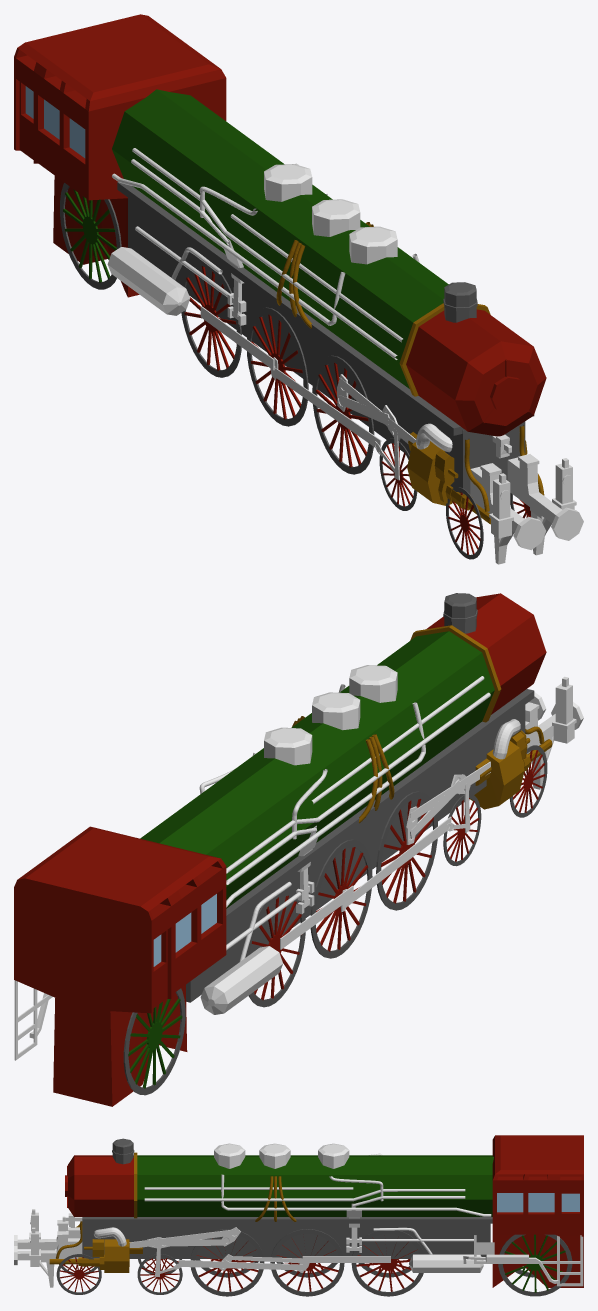
File: Train.glb
The picture shows the model from 3 angles, top to bottom: view 1: azimuth 30°, elevation 25°; view 2: azimuth 150°, elevation 25°; view 3: azimuth 270°, elevation 25°; orthographic projection. The views are drawn at different scales.
Visible parts, largest first — view 1: Cube.085, Cube.084, Cube.083, Cube.063, Cube.068, Cube.067, BezierCurve.041, BezierCurve.035, BezierCurve.037, BezierCurve.039, BezierCurve.042, BezierCurve.053 (+11 smaller); view 2: Cube.084, Cube.085, Cube.083, Cube.063, BezierCurve.041, BezierCurve.035, BezierCurve.037, BezierCurve.042, Cube.067, BezierCurve.053, BezierCurve.039, BezierCurve.057 (+12 smaller); view 3: Cube.085, Cube.084, Cube.083, Cube.063, BezierCurve.041, BezierCurve.039, BezierCurve.035, BezierCurve.042, Cube.068, BezierCurve.018, BezierCurve.002, BezierCurve.022 (+23 smaller).
Part boxes in pixels (x1,y1,x2,y2): Cube.085: (112,89,546,436); Cube.084: (14,14,226,297); Cube.083: (128,198,525,494); Cube.063: (117,182,534,435); Cube.068: (507,454,583,555); Cube.067: (470,463,545,564); BezierCurve.041: (247,307,308,426); BezierCurve.035: (60,183,121,289); BezierCurve.037: (107,247,190,315); BezierCurve.039: (181,259,241,377); BezierCurve.042: (312,355,374,474); BezierCurve.053: (407,432,490,524); Cube.084: (14,826,226,1106); Cube.085: (140,593,546,908); Cube.083: (186,705,525,1002); Cube.063: (226,689,534,922); BezierCurve.041: (310,839,372,958); BezierCurve.035: (123,988,185,1095); BezierCurve.037: (200,946,283,1014); BezierCurve.042: (376,791,437,910); Cube.067: (525,676,583,789); BezierCurve.053: (470,739,552,809); BezierCurve.039: (245,888,305,1007); BezierCurve.057: (226,692,490,873); Cube.085: (65,1152,493,1218); Cube.084: (492,1135,583,1287); Cube.083: (82,1217,490,1258); Cube.063: (82,1217,492,1223); BezierCurve.041: (270,1229,344,1296); BezierCurve.039: (351,1230,423,1296); BezierCurve.035: (498,1234,572,1296); BezierCurve.042: (190,1229,264,1296); Cube.068: (14,1227,82,1287); BezierCurve.018: (49,1239,142,1272); BezierCurve.002: (409,1254,483,1272); BezierCurve.022: (144,1189,465,1201).
Size of the model in its own units: 1.81 by 2.83 by 10.1.
